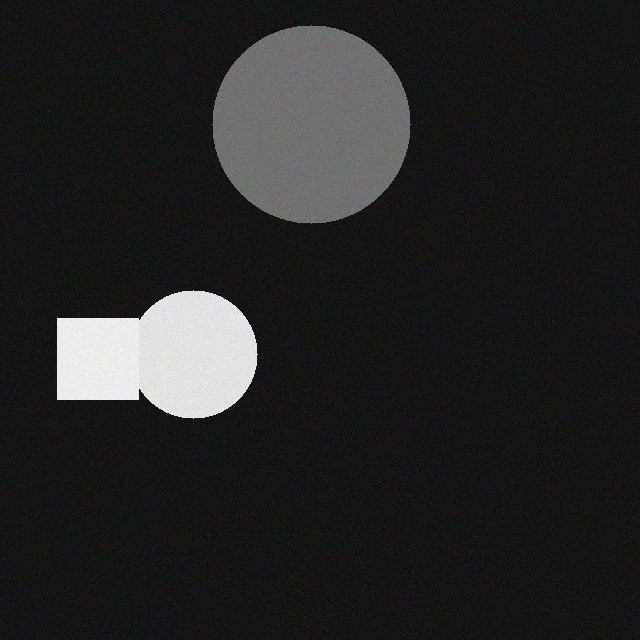circle: (227, 25, 425, 223), (144, 290, 272, 418)
square: (72, 318, 153, 399)
